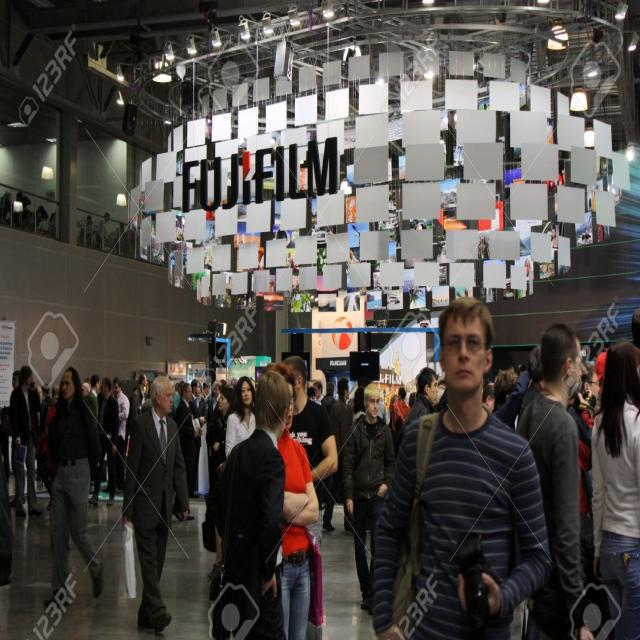body: (370, 297, 555, 640), (26, 341, 640, 420), (209, 369, 292, 636), (518, 320, 587, 639), (120, 372, 192, 638), (258, 360, 321, 639), (40, 364, 105, 610), (339, 374, 401, 613), (590, 340, 639, 640), (282, 354, 338, 554), (0, 189, 143, 262), (570, 362, 602, 588), (8, 364, 44, 518), (321, 376, 354, 533), (210, 385, 234, 581), (88, 375, 120, 507), (398, 366, 439, 445), (173, 381, 198, 499), (492, 360, 532, 431), (224, 376, 256, 460), (7, 369, 26, 508), (521, 219, 560, 283), (112, 376, 130, 495), (205, 378, 223, 490), (189, 378, 204, 498), (84, 373, 100, 485), (133, 372, 150, 416), (628, 307, 640, 344), (34, 385, 44, 427), (347, 247, 360, 266), (41, 383, 52, 402), (50, 384, 60, 404), (286, 246, 294, 266)
